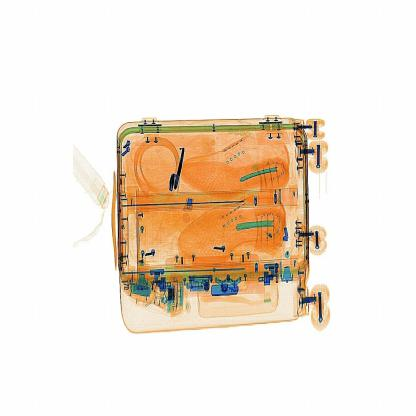wrench: (180, 191, 200, 218)
